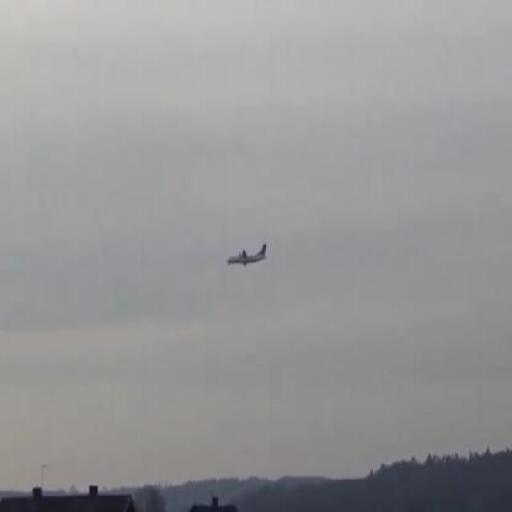aircraft: (227, 242, 267, 268)
